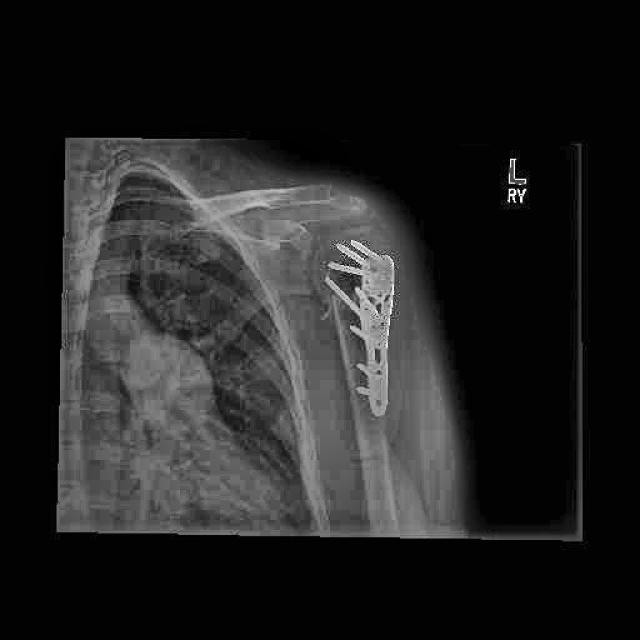forearm fracture: (318, 276, 375, 323)
